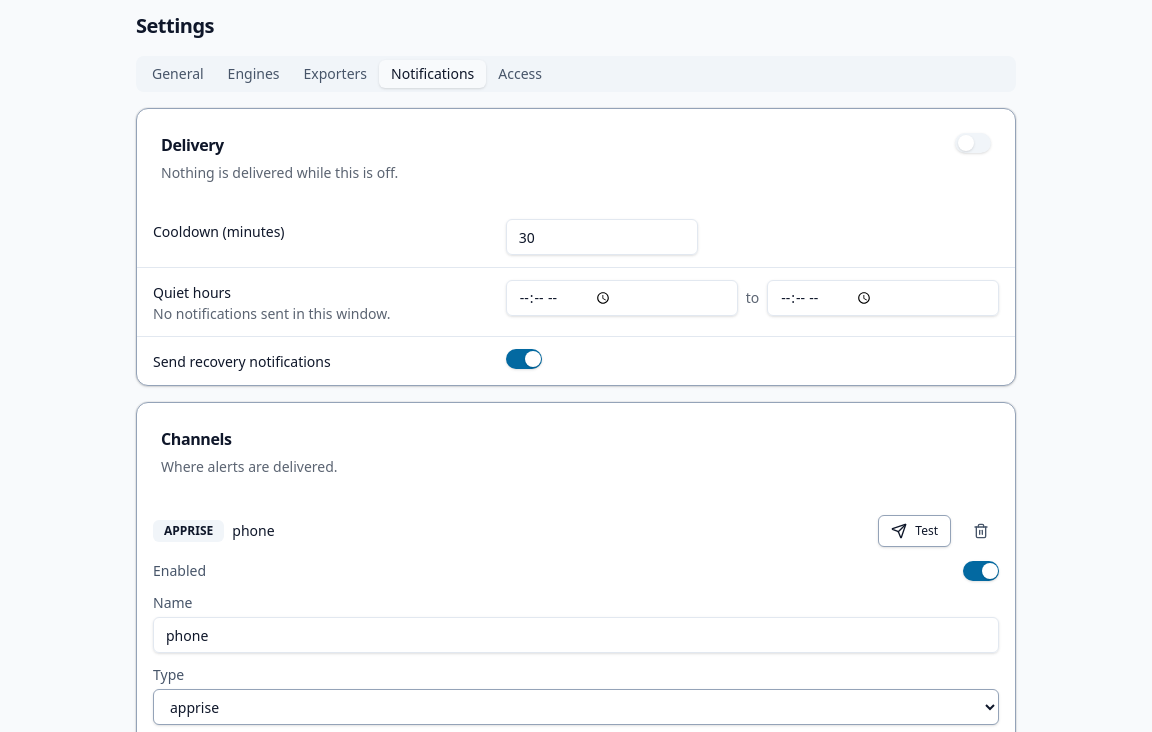
Settings page › reports a channel test result inline
Click the button with aria-label "Test phone".
click(915, 531)  # box [878,515,951,547]
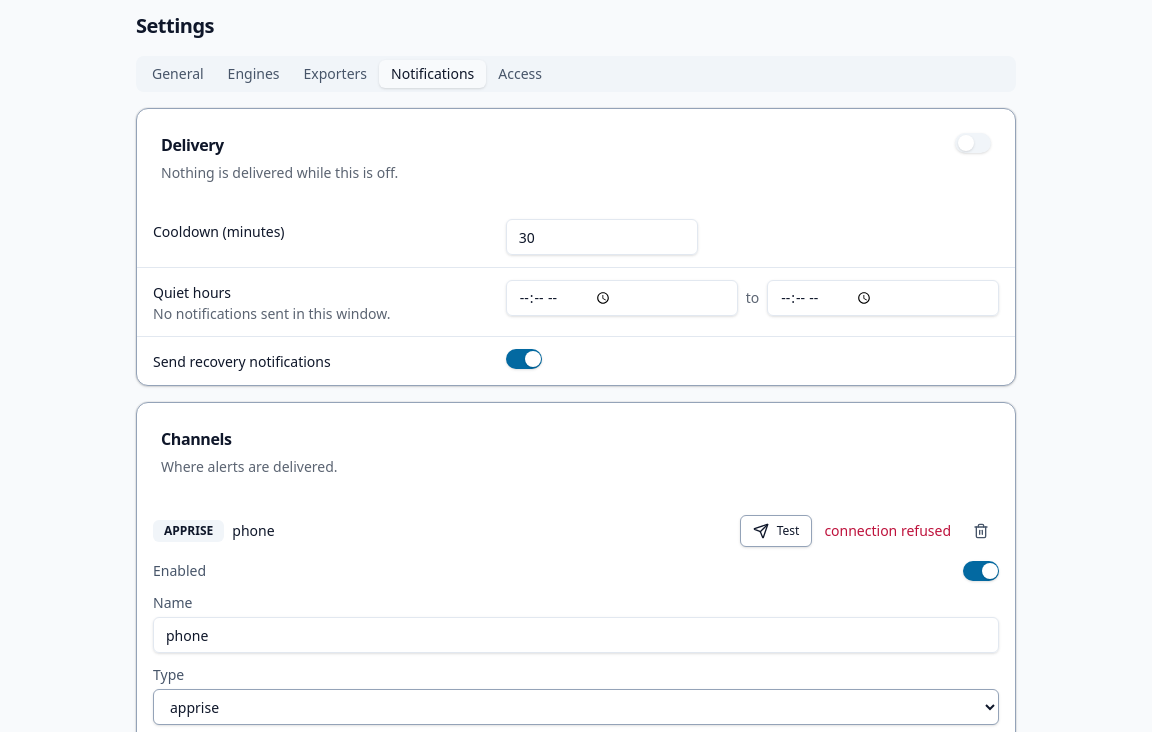
Now the text "connection refused" is shown, box [824,521,951,541]
